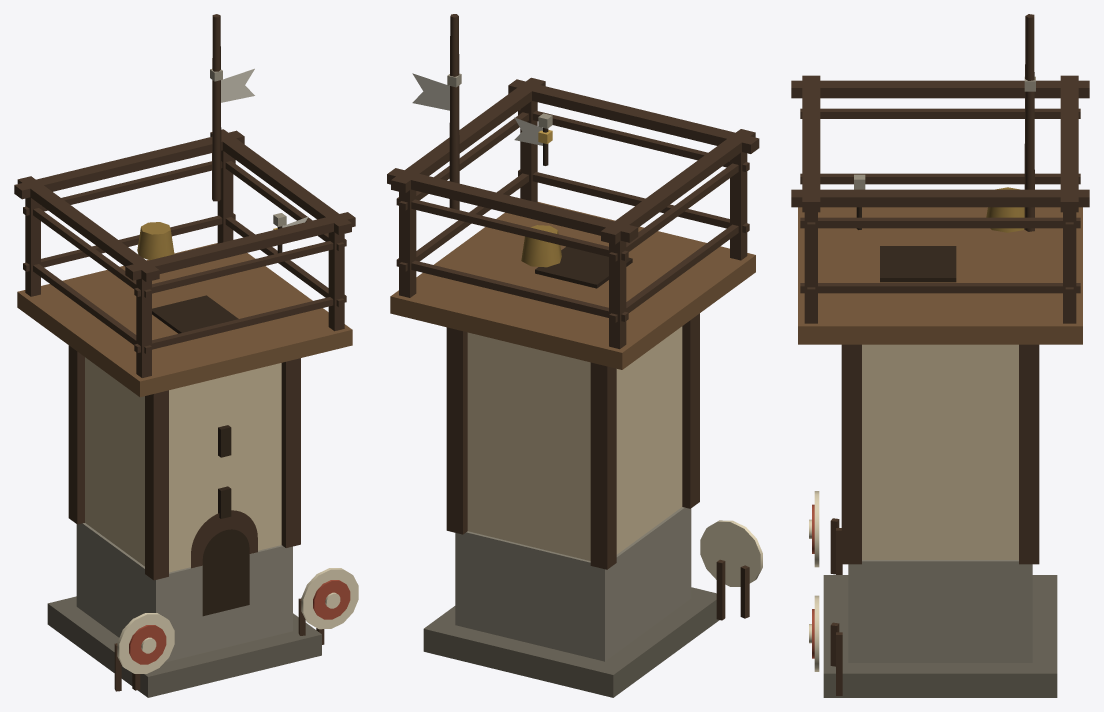
File: tower-L2.glb
3 renders of one model, left to right at view 1: azimuth 30°, elevation 25°; view 2: azimuth 150°, elevation 25°; view 3: azimuth 270°, elevation 25°, orthographic. The views are drawn at different scales.
Parts seen in each view (by area): view 1: building-tower-L2; view 2: building-tower-L2; view 3: building-tower-L2.
Boxes of the visible parts, left/top/right/bottom form: building-tower-L2: left=14, top=14, right=358, bottom=697; building-tower-L2: left=387, top=14, right=762, bottom=697; building-tower-L2: left=791, top=14, right=1089, bottom=697.
Size of the model in its own units: 1.39 by 3.21 by 1.29.
